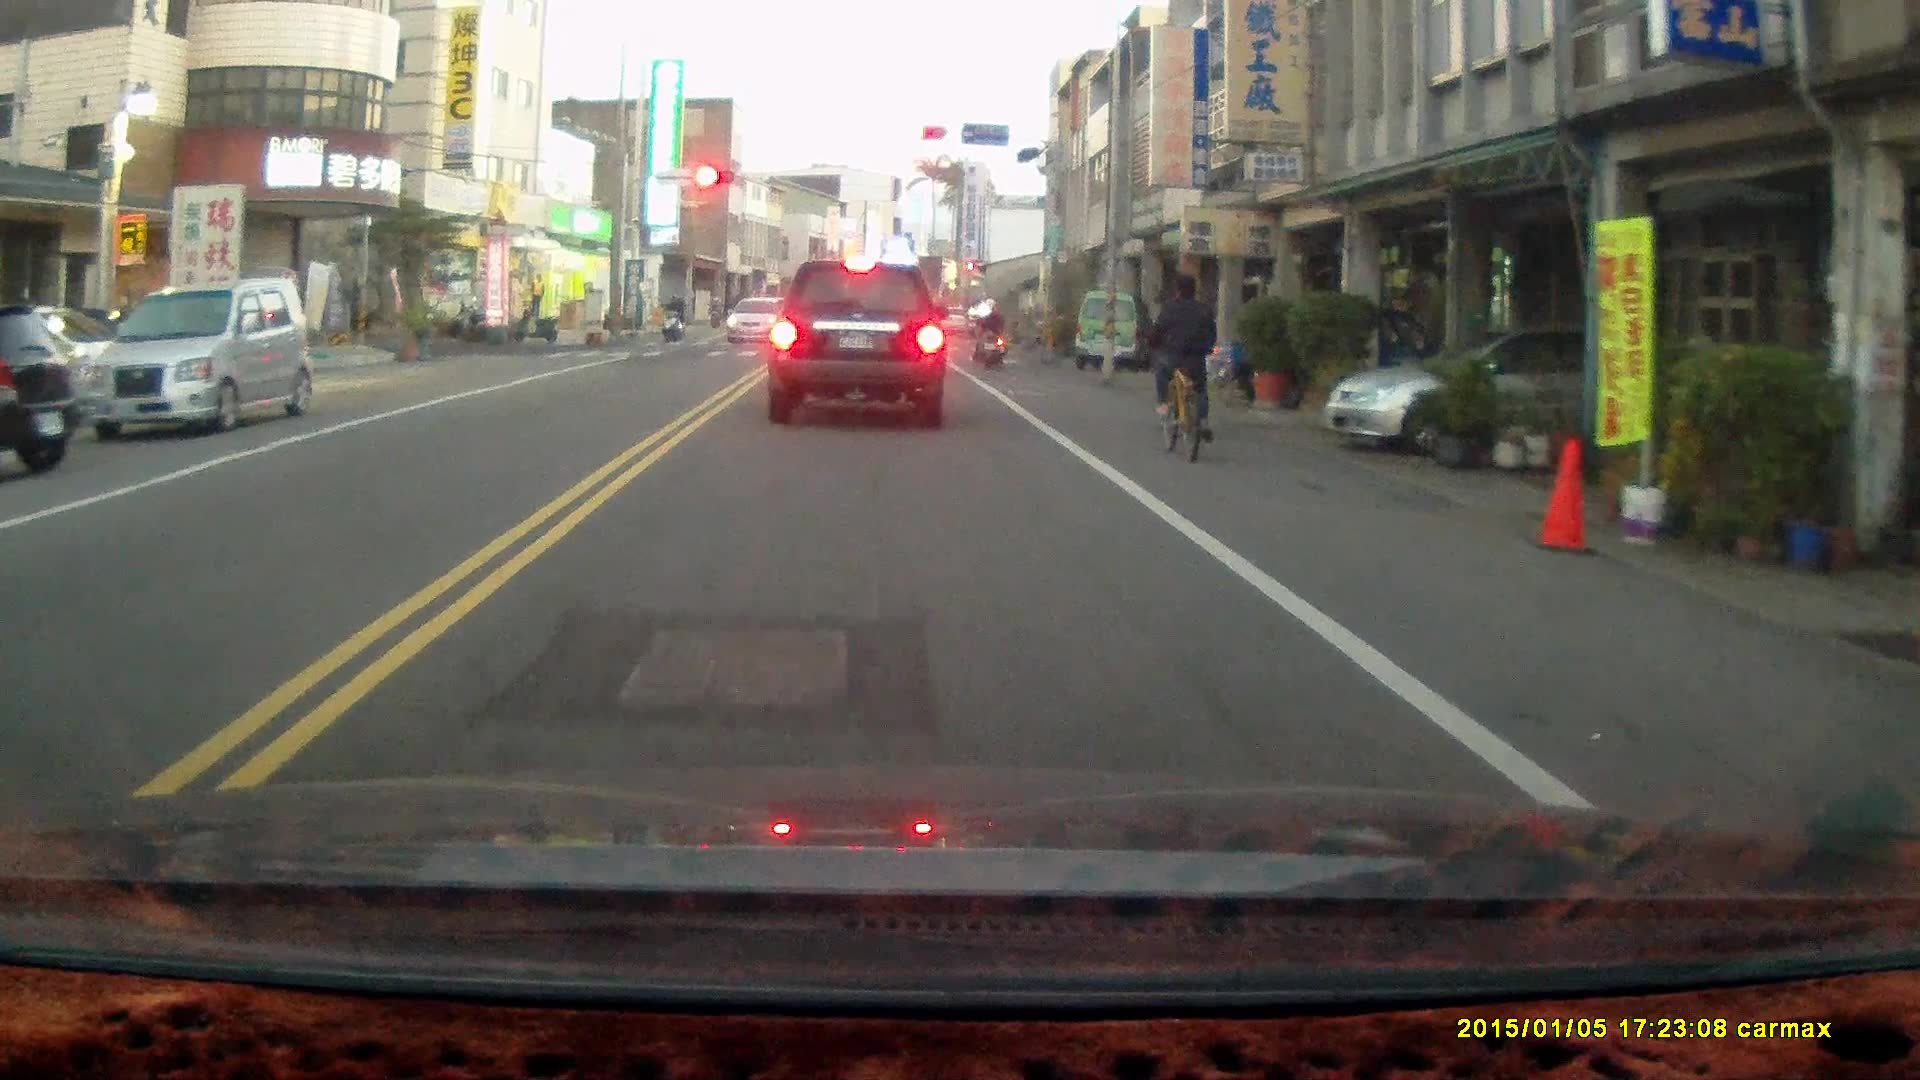pedestrian: (526, 271, 546, 318)
rider: (1145, 268, 1217, 459), (971, 297, 1010, 371), (659, 293, 686, 344)
vehicle: (1326, 318, 1717, 452), (68, 274, 319, 443), (763, 258, 951, 432), (1, 293, 84, 479), (1074, 290, 1154, 371)
